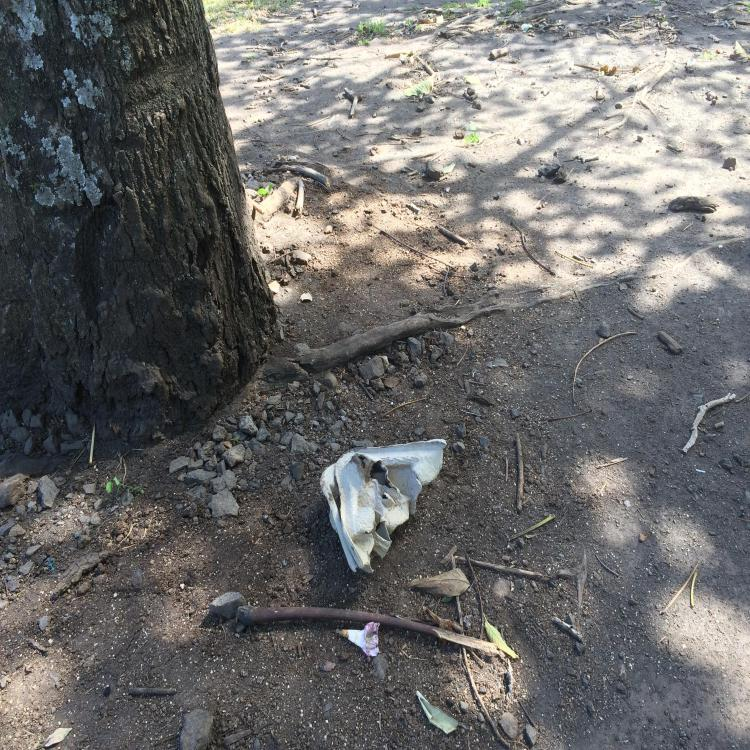Other plastic wrapper: (45, 556, 57, 572)
